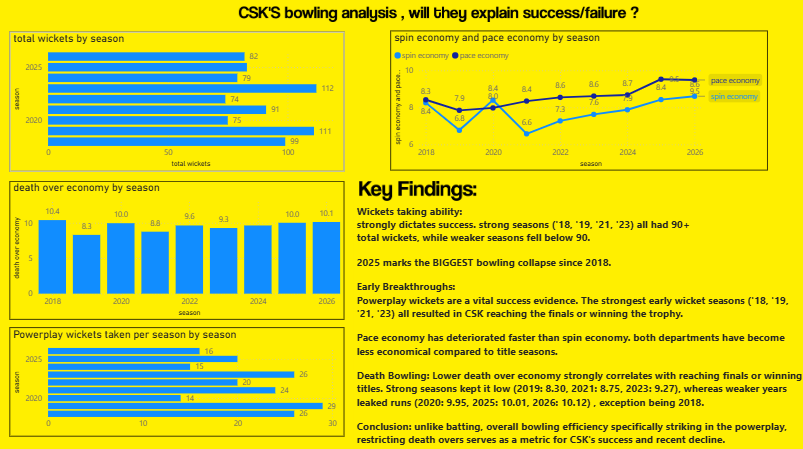

What the dashboard file says about the page in this screenshot:
{"tool":"powerbi","page":{"name":"Page 3","canvas":[1280,720],"ordinal":2},"visuals":[{"type":"clusteredBarChart","fields":{"Category":["total wickets ssn.season"],"Y":["Sum(total wickets ssn.total_wickets)"]},"box":[0,51.7,530,221.7],"z":0},{"type":"lineChart","fields":{"Category":["spin vs pace.season"],"Y":["Sum(spin vs pace.spin_economy)","Sum(spin vs pace.pace_economy)"]},"box":[620,51.7,598.3,221.7],"z":1000},{"type":"clusteredColumnChart","fields":{"Category":["deathover.season"],"Y":["Sum(deathover.death_over_economy)"]},"box":[0,290,530,220],"z":2000},{"type":"clusteredBarChart","fields":{"Category":["power play wickets.season"],"Y":["Sum(power play wickets.powerplay_wickets_taken)"]},"box":[0,530,530,173.3],"z":3000},{"type":"image","box":[436.7,290,453.3,31.7],"z":4000},{"type":"image","box":[380,0,633.3,51.7],"z":5000},{"type":"textbox","box":[561.7,321.7,718.3,398.3],"z":6000}]}

Visuals, with their boxes in screenshot pixels (x1, y1, x2, y2), scaled from the page's 1280x720 canvas onto the 803x449 screenshot:
clusteredBarChart - total wickets ssn.season x Sum(total wickets ssn.total_wickets): Rect(0, 32, 332, 170)
lineChart - spin vs pace.season x Sum(spin vs pace.spin_economy): Rect(389, 32, 764, 170)
clusteredColumnChart - deathover.season x Sum(deathover.death_over_economy): Rect(0, 181, 332, 318)
clusteredBarChart - power play wickets.season x Sum(power play wickets.powerplay_wickets_taken): Rect(0, 331, 332, 439)
image: Rect(274, 181, 558, 201)
image: Rect(238, 0, 636, 32)
textbox: Rect(352, 201, 802, 448)
